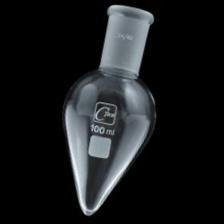Pear shaped flask: (57, 12, 162, 213)
